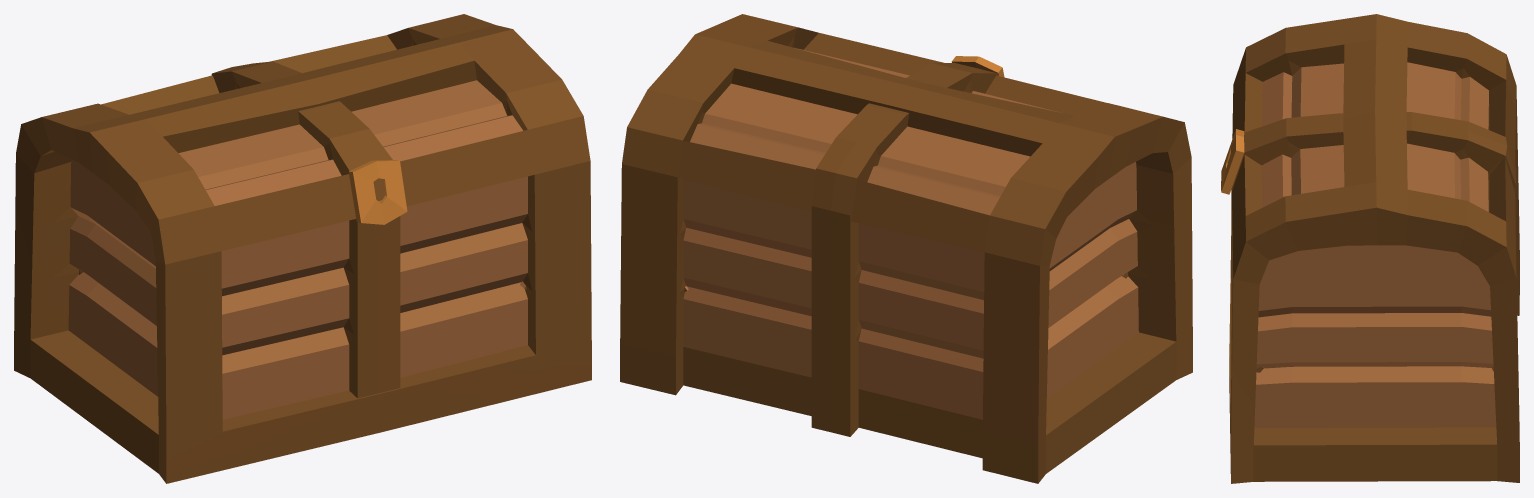
File: chest.fbx
The picture shows the model from 3 angles, left to right: view 1: azimuth 30°, elevation 25°; view 2: azimuth 150°, elevation 25°; view 3: azimuth 270°, elevation 25°; orthographic projection. The views are drawn at different scales.
Visible parts, largest first — view 1: close chest; view 2: close chest; view 3: close chest.
Boxes of the visible parts, box(x1,y1,x2,y2) form: close chest: box(14, 14, 591, 483); close chest: box(620, 14, 1192, 483); close chest: box(1221, 14, 1519, 483).
Size of the model in its own units: 119 by 78.78 by 77.14.
